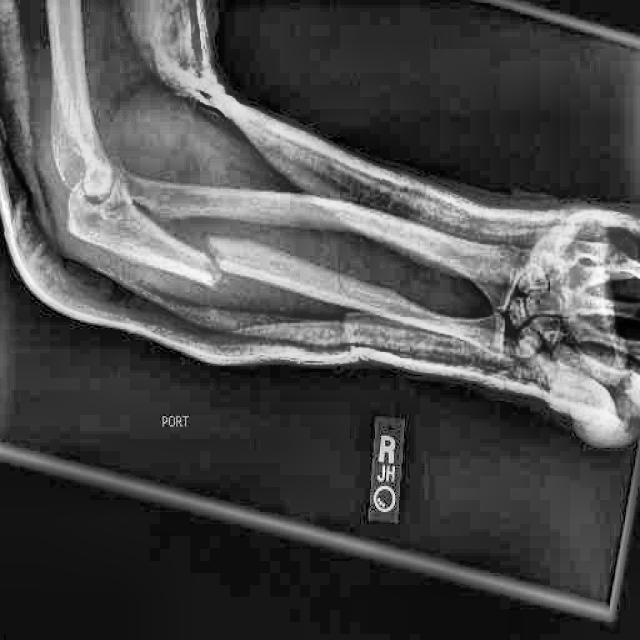forearm fracture: (181, 217, 256, 312)
